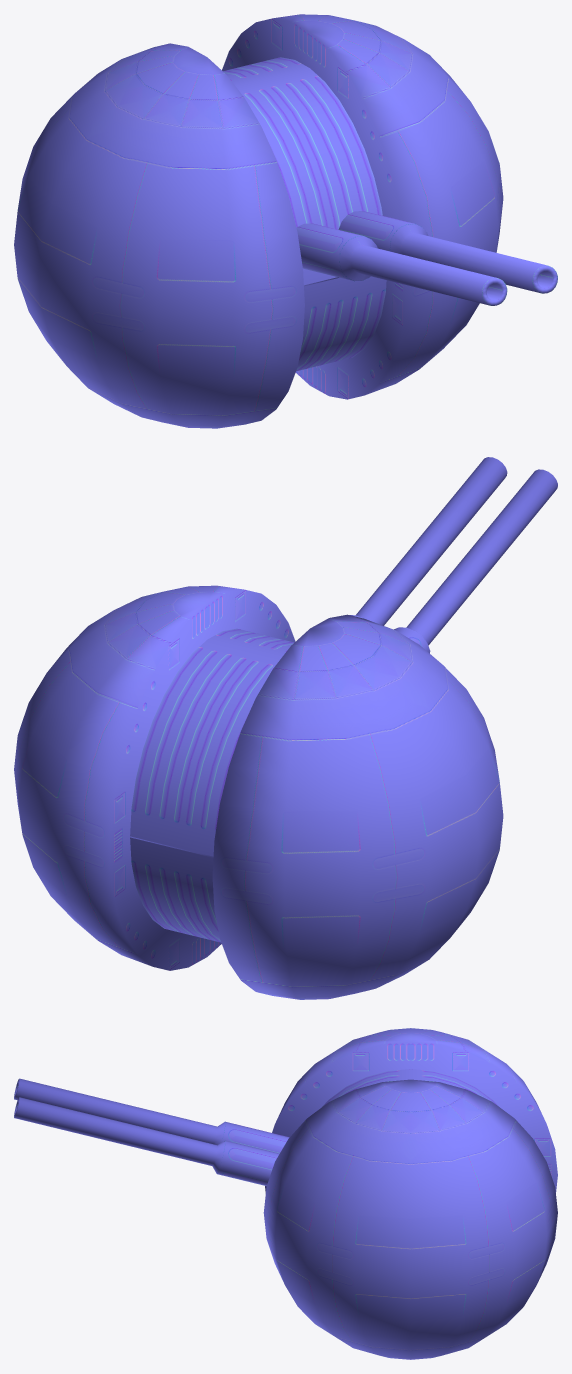
File: SpaceShipCannon.fbx
3 renders of one model, top to bottom at view 1: azimuth 30°, elevation 25°; view 2: azimuth 150°, elevation 25°; view 3: azimuth 270°, elevation 25°, orthographic. The views are drawn at different scales.
Visible parts, largest first — view 1: Turret, Cannon; view 2: Turret, Cannon; view 3: Turret, Cannon.
Part boxes in pixels (x1,y1,x2,y2): Turret: [14, 14, 503, 428]; Cannon: [296, 211, 557, 305]; Turret: [14, 585, 503, 999]; Cannon: [349, 457, 557, 653]; Turret: [263, 1028, 557, 1359]; Cannon: [14, 1078, 289, 1185].
Size of the model in its own units: 209 by 160 by 296.
